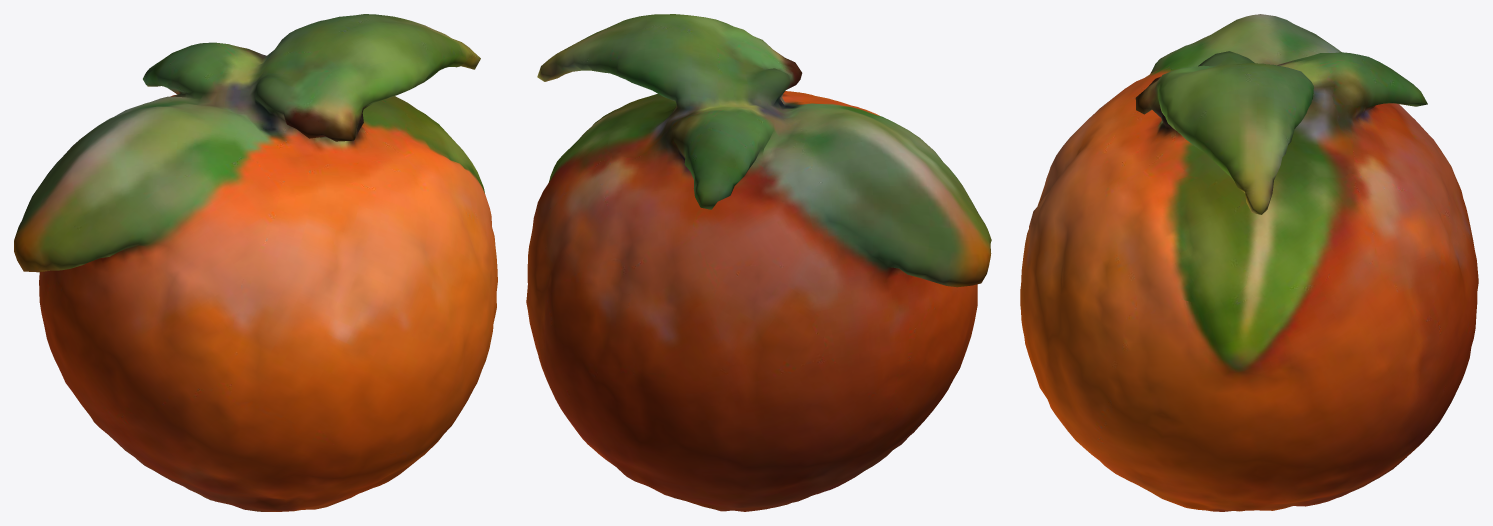
The model's file is persimmon.glb.
3 views of the same model, side by side, from view 1: azimuth 30°, elevation 25°; view 2: azimuth 150°, elevation 25°; view 3: azimuth 270°, elevation 25° (orthographic). The views are drawn at different scales.
Visible parts, largest first — view 1: Mesh1; view 2: Mesh1; view 3: Mesh1.
Part boxes in pixels (x1,y1,x2,y2): Mesh1: [14, 14, 497, 511]; Mesh1: [526, 14, 991, 511]; Mesh1: [1020, 14, 1478, 511].
Bounding box in the file's own units: 1.2 × 1.11 × 1.01.
1 material, 1 textured.
